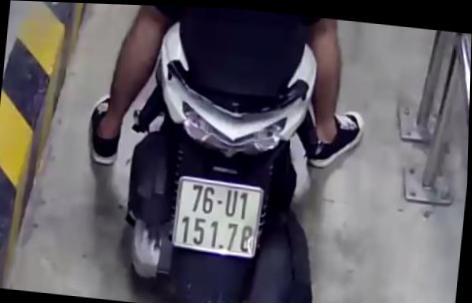LP: (172, 173, 266, 256)
